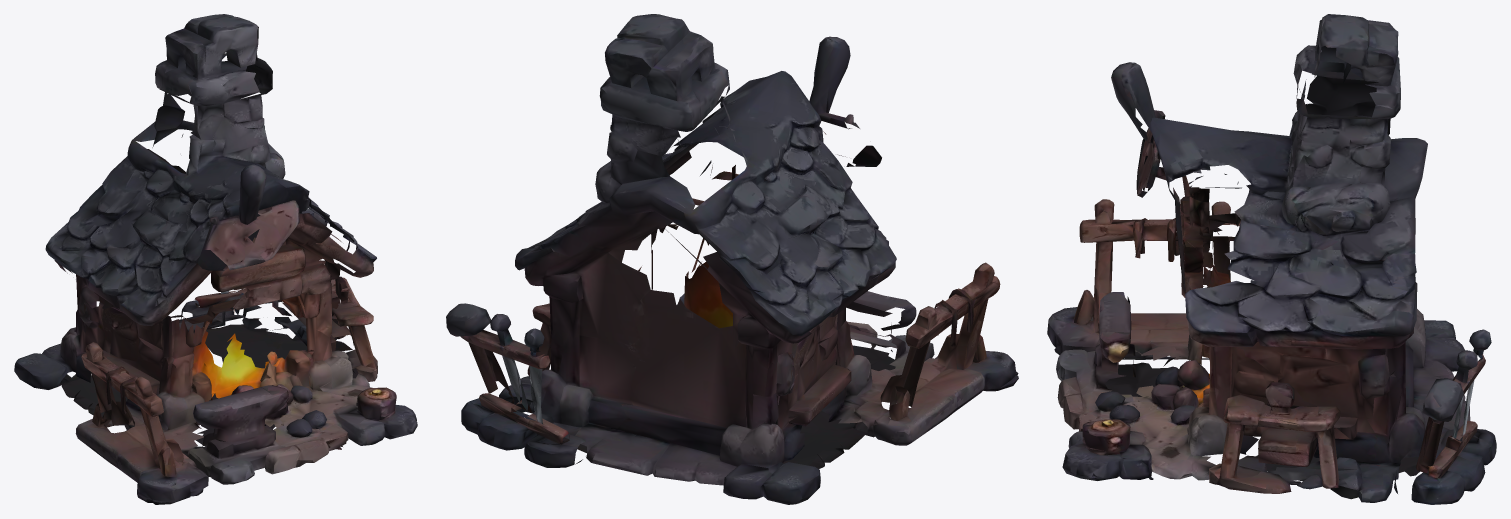
Rendered from tripo-forja154.glb.
The picture shows the model from 3 angles, left to right: view 1: azimuth 30°, elevation 25°; view 2: azimuth 150°, elevation 25°; view 3: azimuth 270°, elevation 25°; orthographic projection. The views are drawn at different scales.
Visible parts, largest first — view 1: tripo_node_48a9b6ff-fa36-43d9-9934-3f0f5cabb71f; view 2: tripo_node_48a9b6ff-fa36-43d9-9934-3f0f5cabb71f; view 3: tripo_node_48a9b6ff-fa36-43d9-9934-3f0f5cabb71f.
Part boxes in pixels (box(x1,y1,x2,y2)): tripo_node_48a9b6ff-fa36-43d9-9934-3f0f5cabb71f: box(14, 14, 417, 504); tripo_node_48a9b6ff-fa36-43d9-9934-3f0f5cabb71f: box(446, 14, 1018, 504); tripo_node_48a9b6ff-fa36-43d9-9934-3f0f5cabb71f: box(1047, 14, 1496, 504).
Size of the model in its own units: 0.9787 by 0.9664 by 0.945.
1 material, 1 textured.
